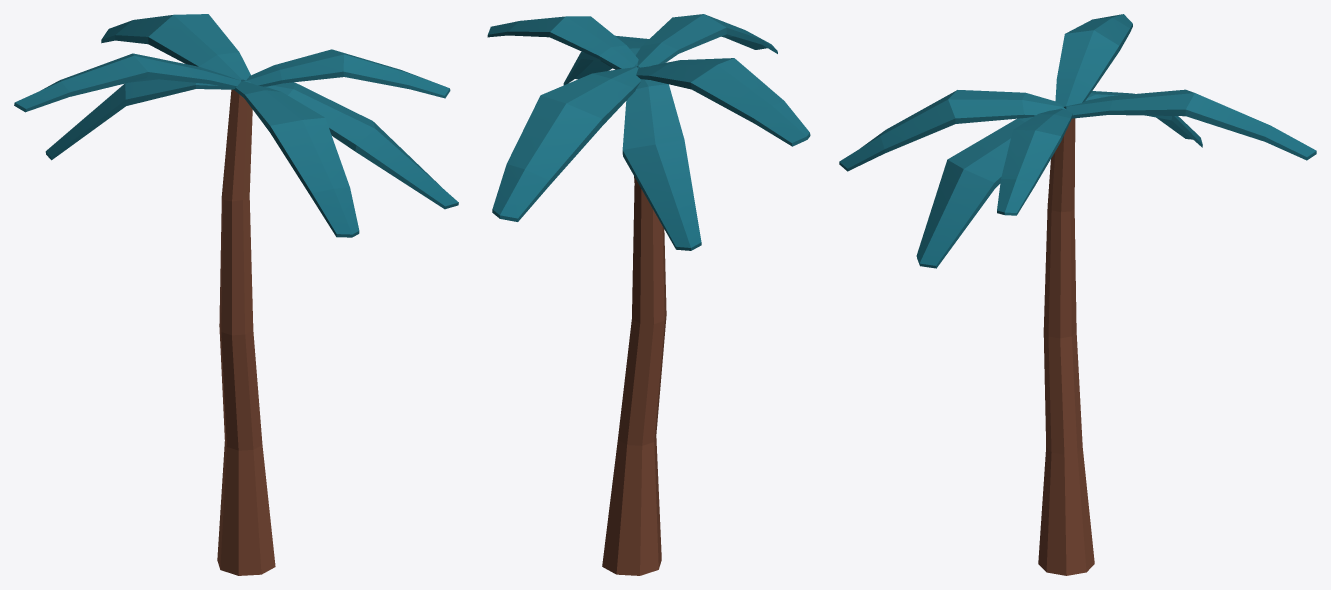
Rendered from Tree_38_gradient_blue_vc.fbx.
The picture shows the model from 3 angles, left to right: view 1: azimuth 30°, elevation 25°; view 2: azimuth 150°, elevation 25°; view 3: azimuth 270°, elevation 25°; orthographic projection. The views are drawn at different scales.
Visible parts, largest first — view 1: Tree_38_gradient_blue_vc; view 2: Tree_38_gradient_blue_vc; view 3: Tree_38_gradient_blue_vc.
Part boxes in pixels (<box>): Tree_38_gradient_blue_vc: <box>14,14,458,575</box>; Tree_38_gradient_blue_vc: <box>487,14,810,575</box>; Tree_38_gradient_blue_vc: <box>839,14,1316,575</box>.
Bounding box in the file's own units: 160 × 214 × 189.
